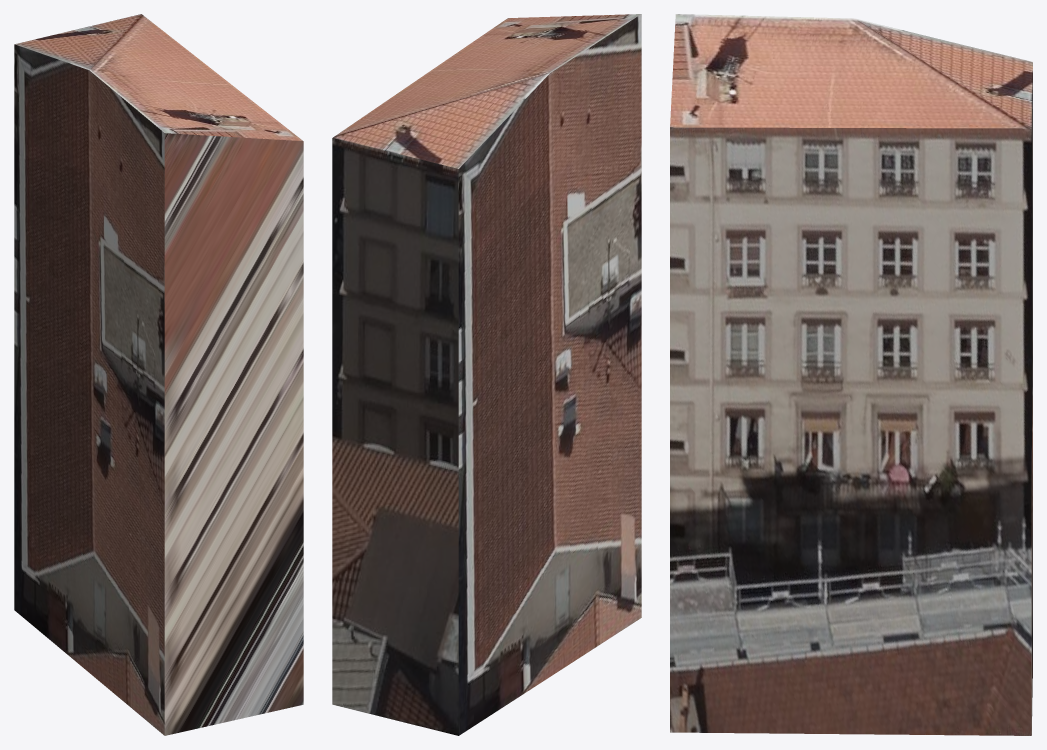
3 renders of one model, left to right at view 1: azimuth 30°, elevation 25°; view 2: azimuth 150°, elevation 25°; view 3: azimuth 270°, elevation 25°, orthographic. The views are drawn at different scales.
Visible parts, largest first — view 1: Z_UP; view 2: Z_UP; view 3: Z_UP.
Boxes of the visible parts, bbox=[...] form: Z_UP: bbox=[14, 14, 303, 735]; Z_UP: bbox=[332, 14, 641, 735]; Z_UP: bbox=[670, 14, 1032, 735].
Size of the model in its own units: 6.04 by 24.38 by 12.39.
Materials: 2 (1 with a texture image).
